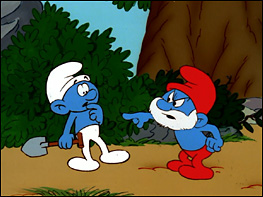smurf: (121, 65, 225, 181), (44, 60, 131, 173)
